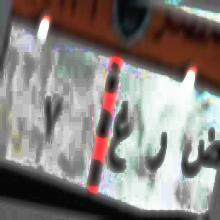7: (42, 88, 64, 162)
daad: (179, 114, 220, 207)
ghayn: (109, 97, 131, 182)
raa: (144, 124, 172, 185)
